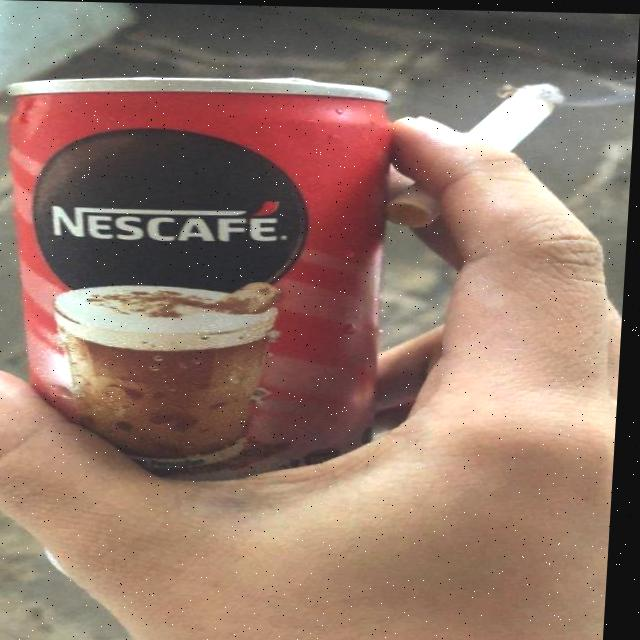cigarette: (395, 74, 568, 227)
